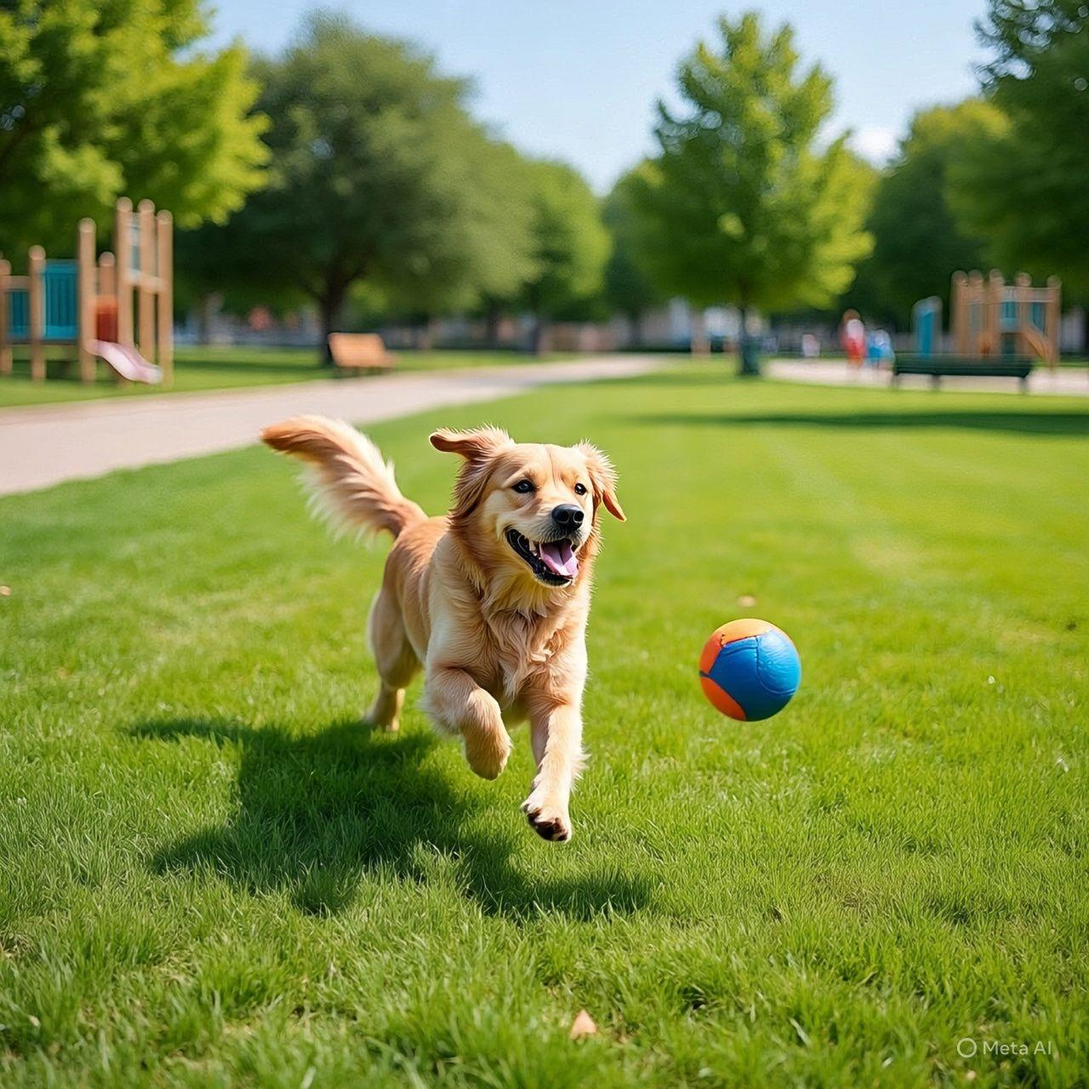adult_dog: (258, 413, 627, 843)
non-dog: (698, 618, 802, 724)
